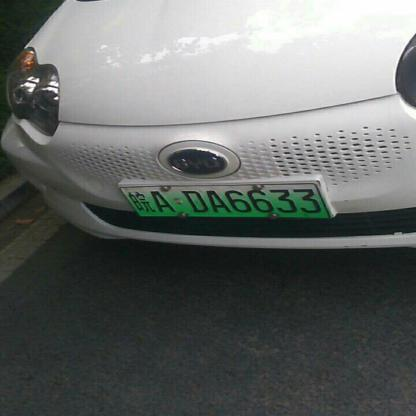lp: (118, 182, 332, 218)
